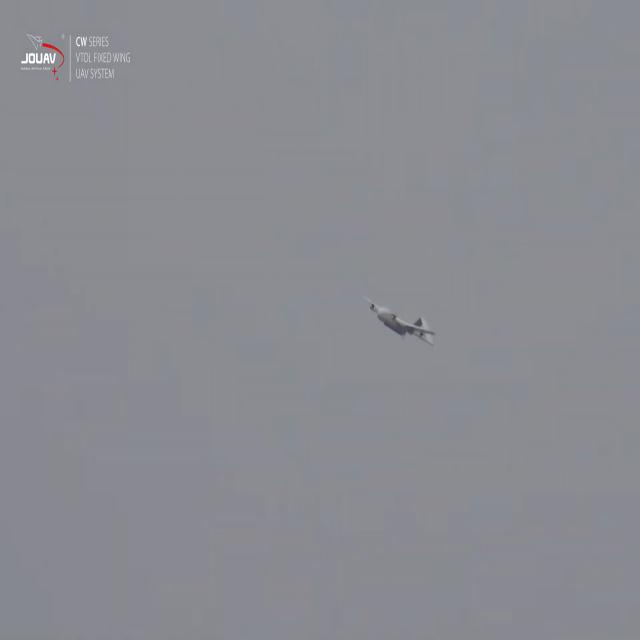iha: (399, 295, 403, 353)
